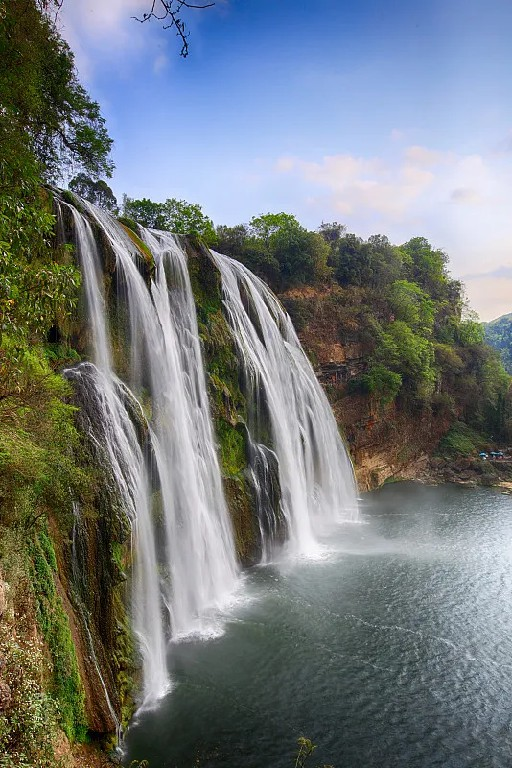Huangguoshu: (59, 188, 362, 716)
